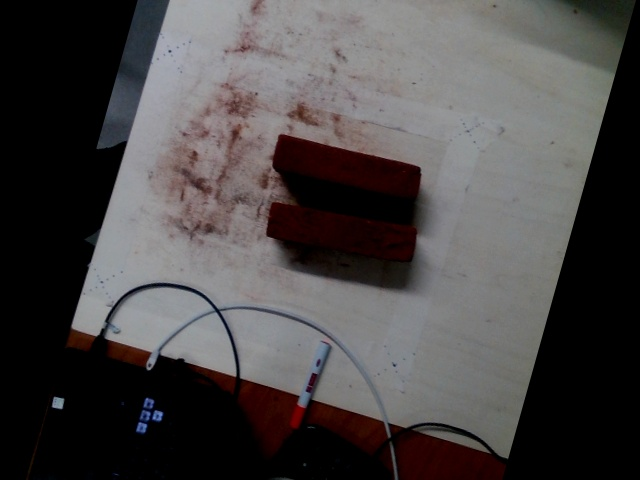brick-side: (273, 135, 419, 199), (268, 202, 419, 263)
